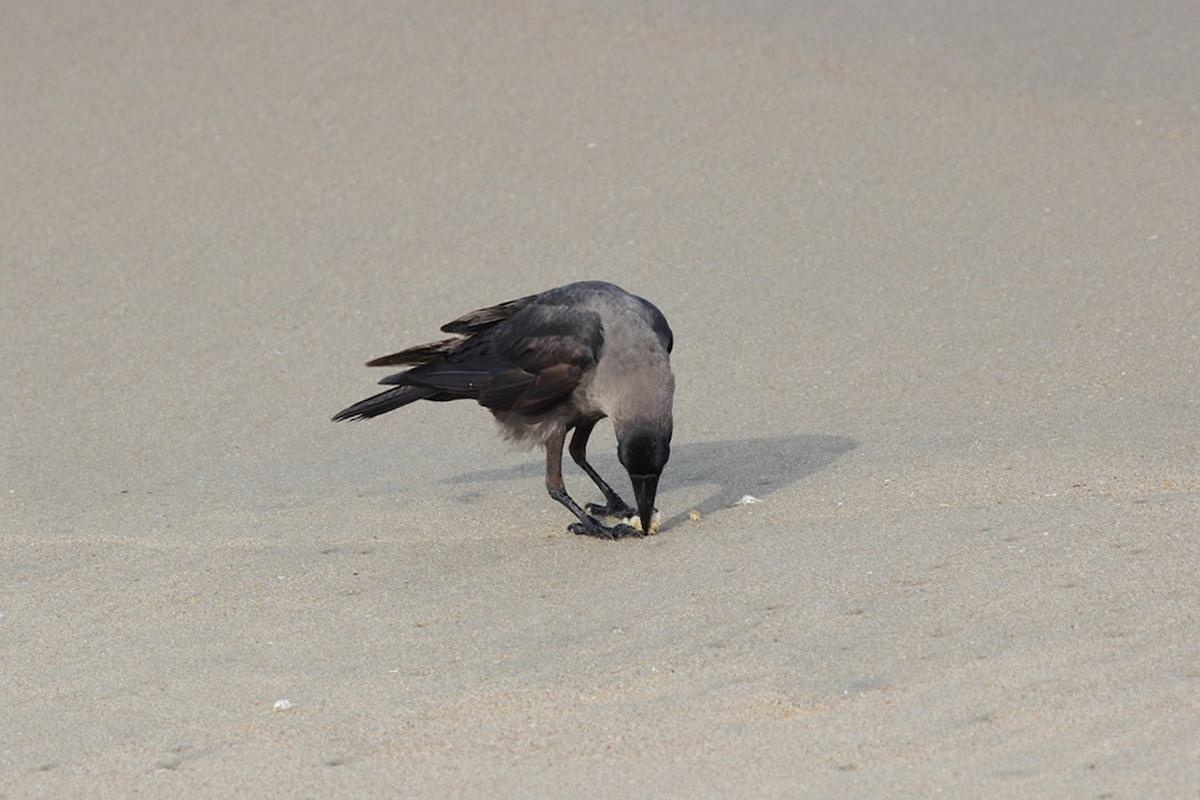crow: (321, 265, 698, 562)
